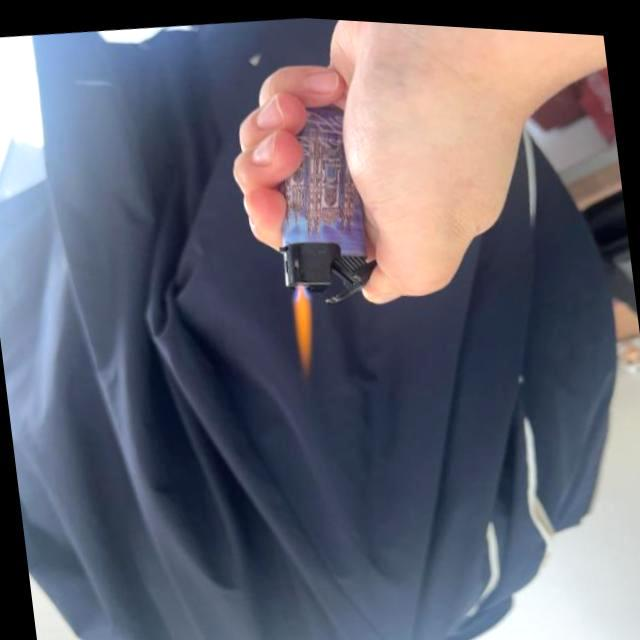fire: (286, 279, 322, 373)
